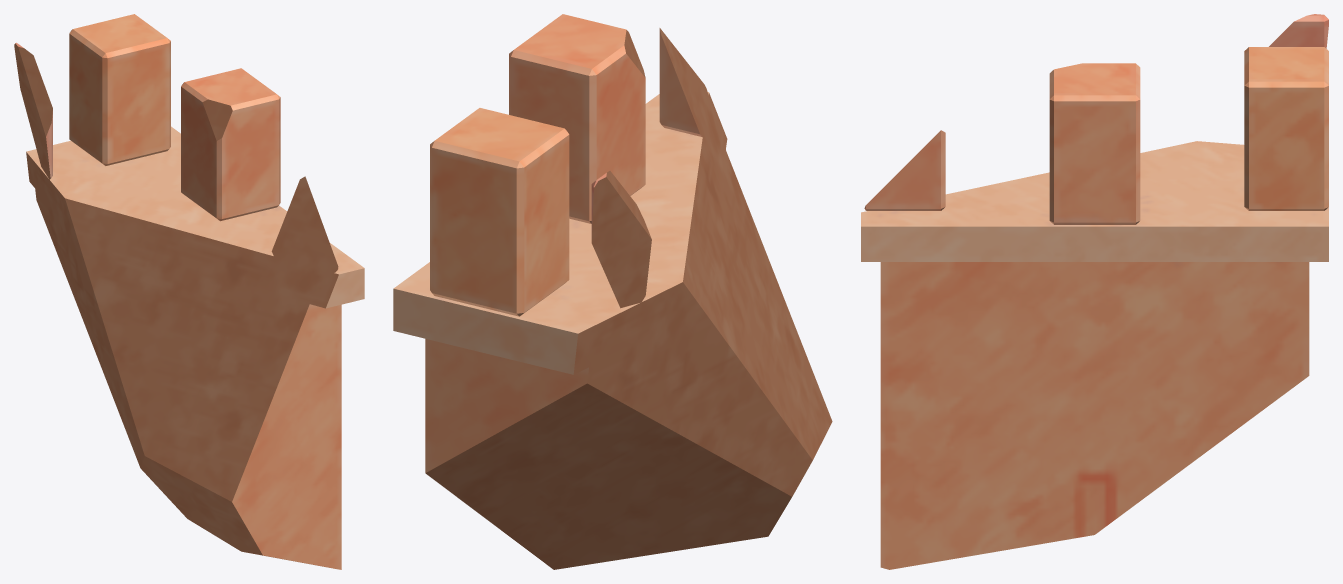
The model's file is townwall_tower_s08.fbx.
3 views of the same model, side by side, from view 1: azimuth 30°, elevation 25°; view 2: azimuth 150°, elevation 25°; view 3: azimuth 270°, elevation 25° (orthographic). The views are drawn at different scales.
Parts seen in each view (by area): view 1: townwall_tower_s08; view 2: townwall_tower_s08; view 3: townwall_tower_s08.
Part boxes in pixels (x1,y1,x2,y2): townwall_tower_s08: [14, 14, 364, 569]; townwall_tower_s08: [393, 14, 832, 569]; townwall_tower_s08: [861, 14, 1328, 569].
Bounding box in the file's own units: 3.27 × 8.17 × 7.2.
